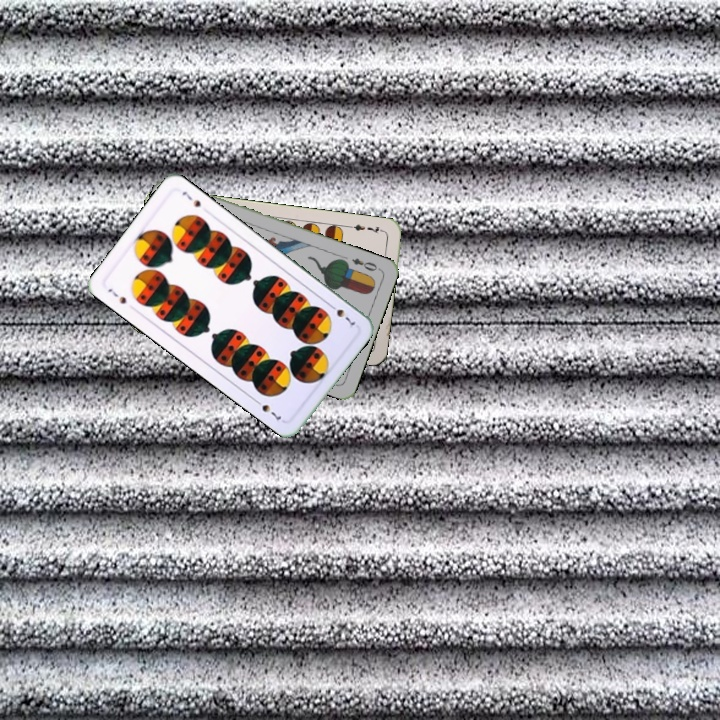E7: (346, 220, 387, 236)
EO: (348, 254, 383, 274)
S7: (325, 299, 358, 331), (104, 284, 129, 307)
